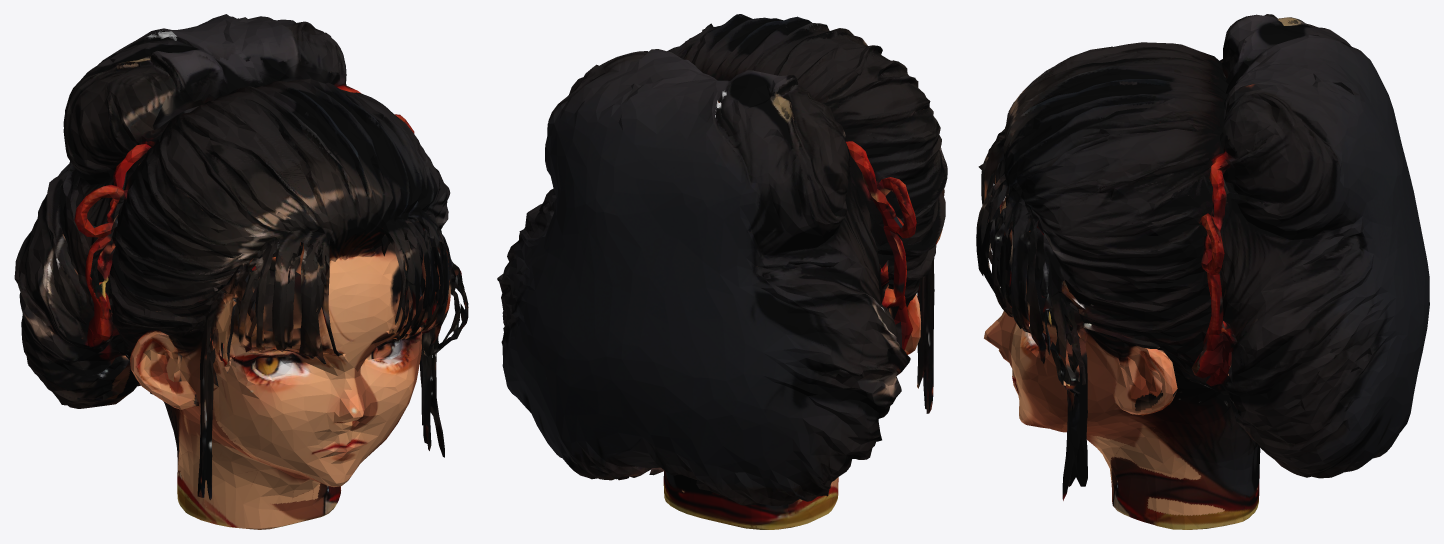
File: side_tatanko_portrait_face_source.glb
3 renders of one model, left to right at view 1: azimuth 30°, elevation 25°; view 2: azimuth 150°, elevation 25°; view 3: azimuth 270°, elevation 25°, orthographic. The views are drawn at different scales.
Visible parts, largest first — view 1: temp_mesh.ply; view 2: temp_mesh.ply; view 3: temp_mesh.ply.
Part boxes in pixels (x1,y1,x2,y2): temp_mesh.ply: (14, 14, 468, 529); temp_mesh.ply: (497, 14, 947, 529); temp_mesh.ply: (976, 14, 1429, 529).
Size of the model in its own units: 1.65 by 1.9 by 1.74.
Materials: 1 (1 with a texture image).
